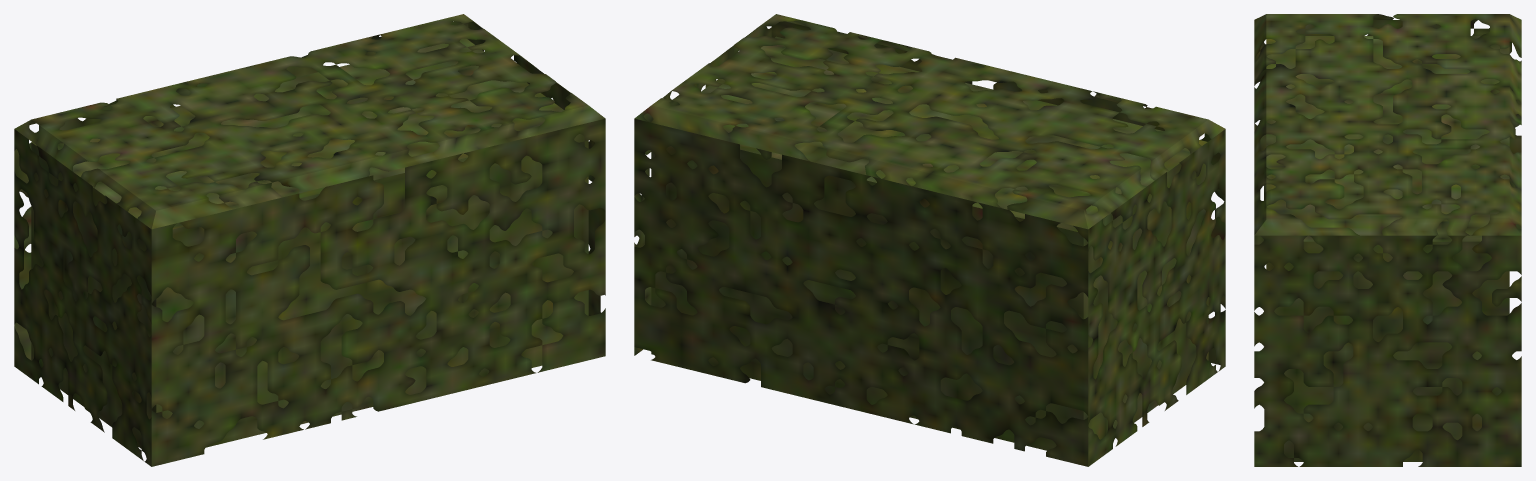
File: cubocesped.fbx
3 renders of one model, left to right at view 1: azimuth 30°, elevation 25°; view 2: azimuth 150°, elevation 25°; view 3: azimuth 270°, elevation 25°, orthographic. The views are drawn at different scales.
Parts seen in each view (by area): view 1: basic_2x1; view 2: basic_2x1; view 3: basic_2x1.
Part boxes in pixels (x1,y1,x2,y2): basic_2x1: (14,14,605,466); basic_2x1: (634,14,1225,466); basic_2x1: (1254,14,1521,466).
Bounding box in the file's own units: 210 × 110 × 110.
Materials: 1 (1 with a texture image).
